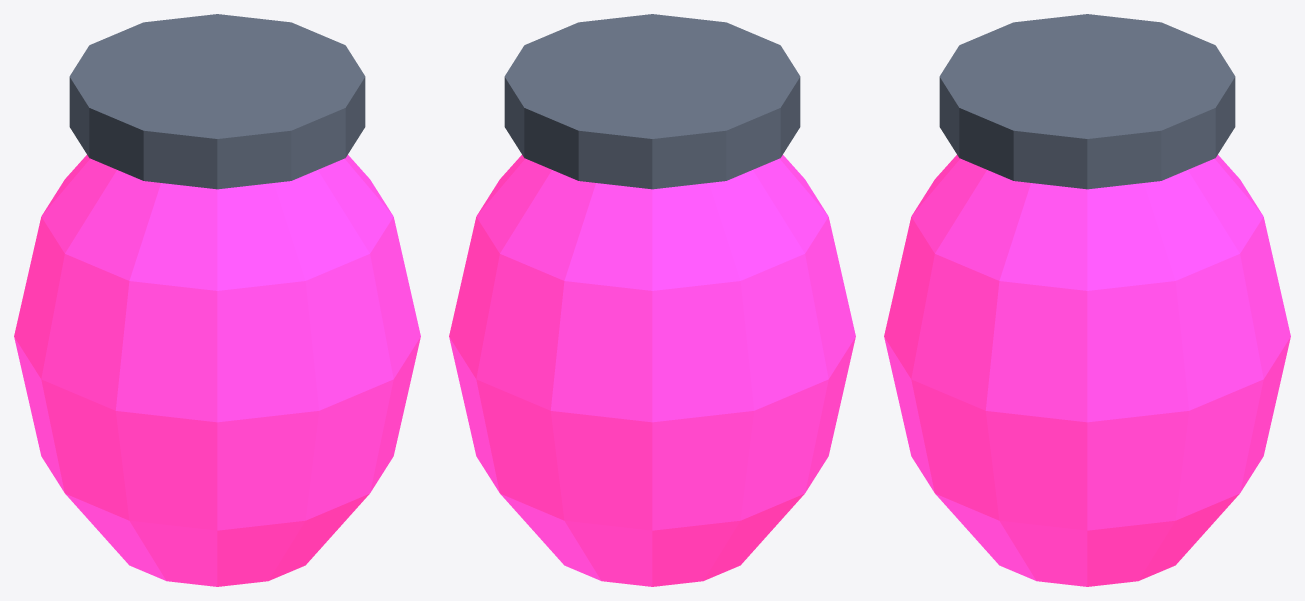
File: lantern.glb
3 views of the same model, side by side, from view 1: azimuth 30°, elevation 25°; view 2: azimuth 150°, elevation 25°; view 3: azimuth 270°, elevation 25° (orthographic).
Parts seen in each view (by area): view 1: Lantern, Lantern cap; view 2: Lantern, Lantern cap; view 3: Lantern, Lantern cap.
Boxes of the visible parts, left/top/right/bottom form: Lantern: left=14, top=155, right=420, bottom=586; Lantern cap: left=69, top=14, right=365, bottom=189; Lantern: left=449, top=155, right=855, bottom=586; Lantern cap: left=504, top=14, right=800, bottom=189; Lantern: left=884, top=155, right=1290, bottom=586; Lantern cap: left=939, top=14, right=1235, bottom=189.
Bounding box in the file's own units: 0.44 × 0.596 × 0.44.
